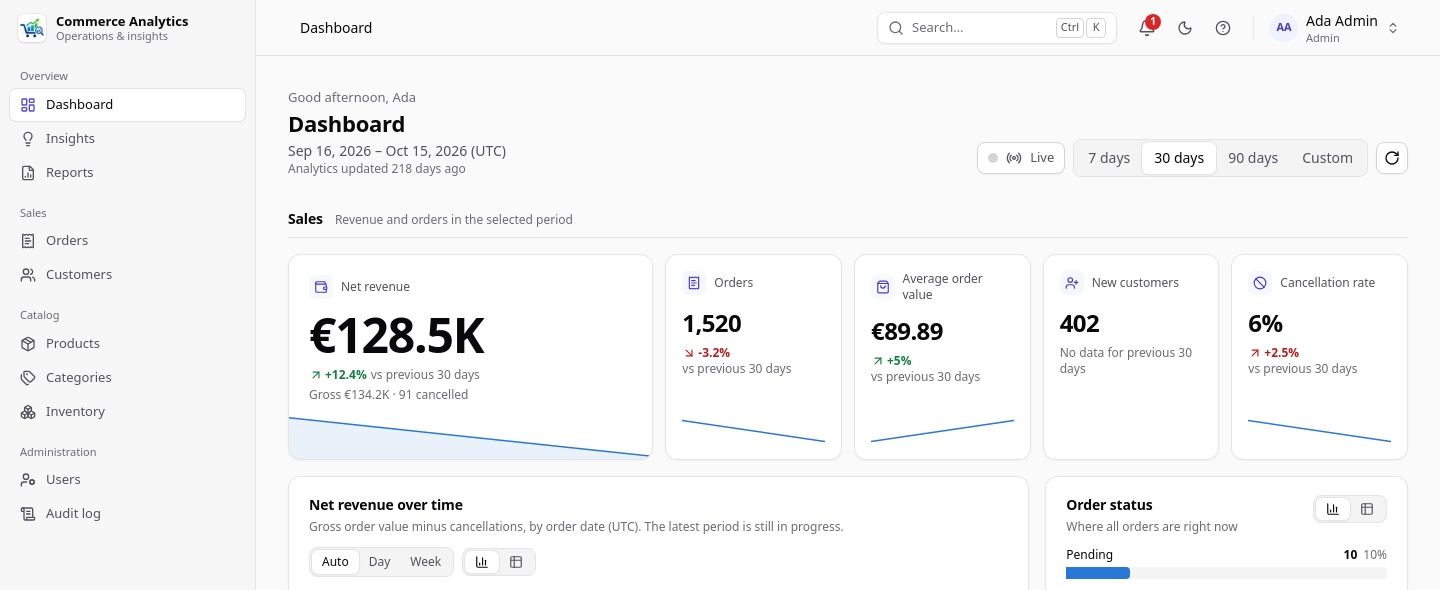
Test case: authentication flow › returns to the login page when the session expires mid-use
Expected: the heading "Dashboard" is shown, [288,108,405,138]
Click the button named "Refresh data" at (1392, 158), box [1376,142,1408,174]
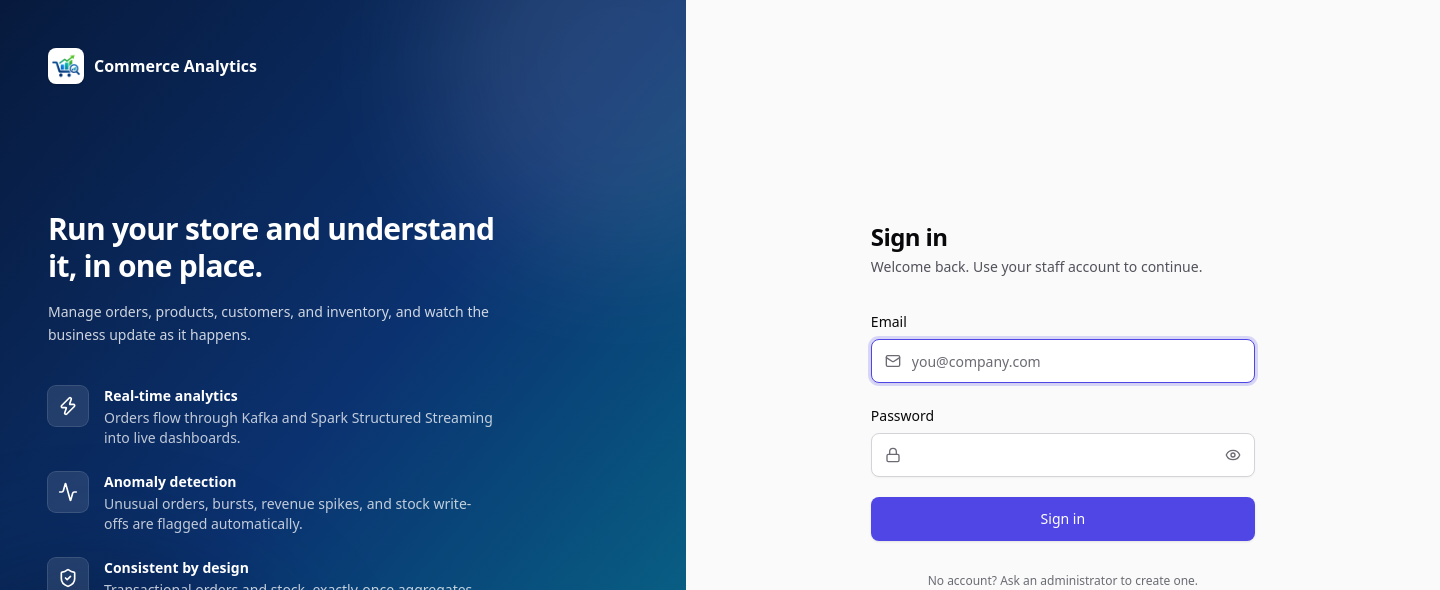
Now the heading "Sign in" is shown, box [871,220,947,253]
